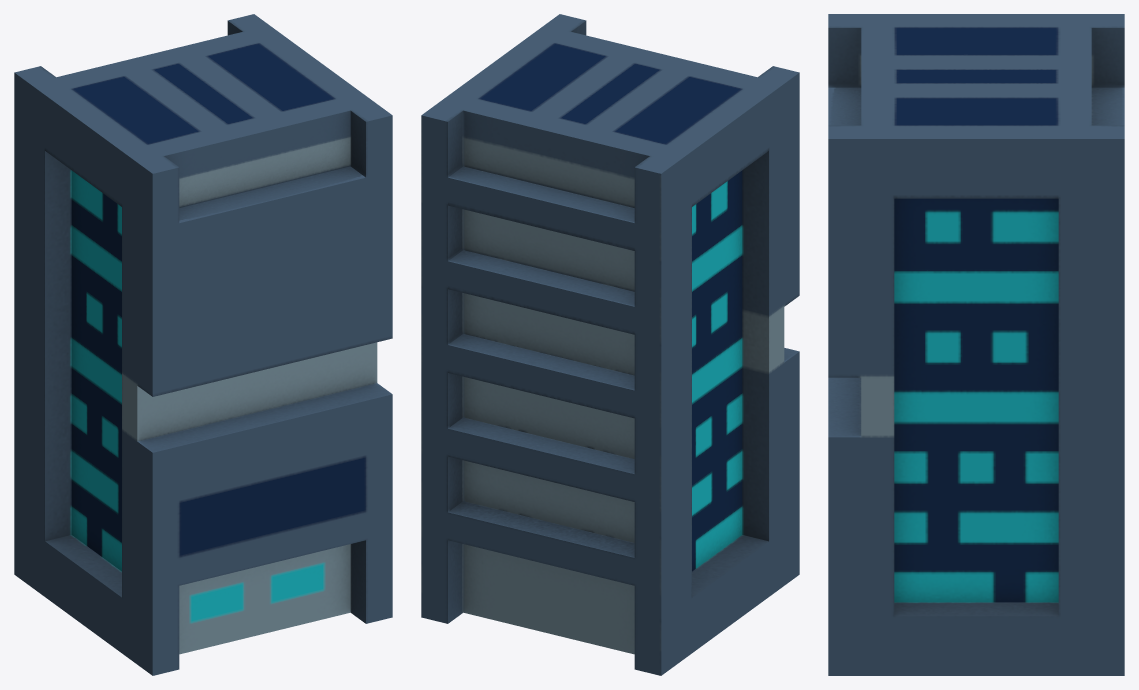
The model's file is col_B.FBX.
3 renders of one model, left to right at view 1: azimuth 30°, elevation 25°; view 2: azimuth 150°, elevation 25°; view 3: azimuth 270°, elevation 25°, orthographic. The views are drawn at different scales.
Parts seen in each view (by area): view 1: col_B; view 2: col_B; view 3: col_B.
Boxes of the visible parts, x1=… form: col_B: x1=14, y1=14, x2=392, y2=675; col_B: x1=421, y1=14, x2=799, y2=675; col_B: x1=828, y1=14, x2=1124, y2=675.
Bounding box in the file's own units: 9 × 9 × 18.
